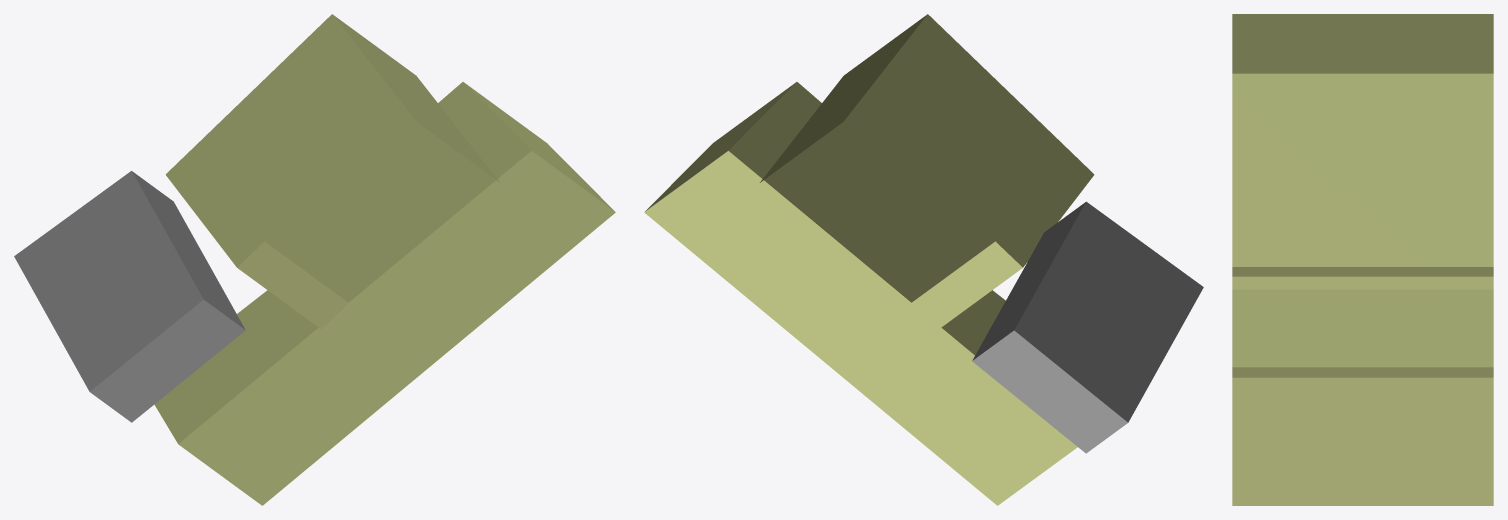
3 renders of one model, left to right at view 1: azimuth 30°, elevation 25°; view 2: azimuth 150°, elevation 25°; view 3: azimuth 270°, elevation 25°, orthographic. The views are drawn at different scales.
Parts seen in each view (by area): view 1: 0_1_0_2_0_0_1_3_3_3; view 2: 0_1_0_2_0_0_1_3_3_3; view 3: 0_1_0_2_0_0_1_3_3_3.
Part boxes in pixels (box(x1,y1,x2,y2)): 0_1_0_2_0_0_1_3_3_3: box(14, 14, 615, 505); 0_1_0_2_0_0_1_3_3_3: box(644, 14, 1203, 505); 0_1_0_2_0_0_1_3_3_3: box(1232, 14, 1493, 505).
Size of the model in its own units: 21.27 by 15.42 by 6.
